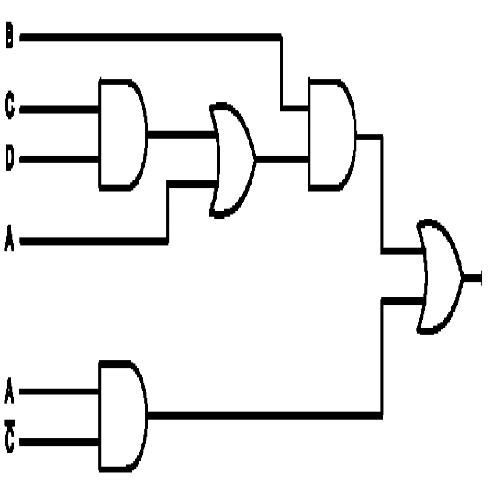and: (96, 70, 152, 198), (96, 352, 152, 476), (305, 70, 359, 198)
or: (207, 96, 262, 222), (414, 211, 466, 340)
